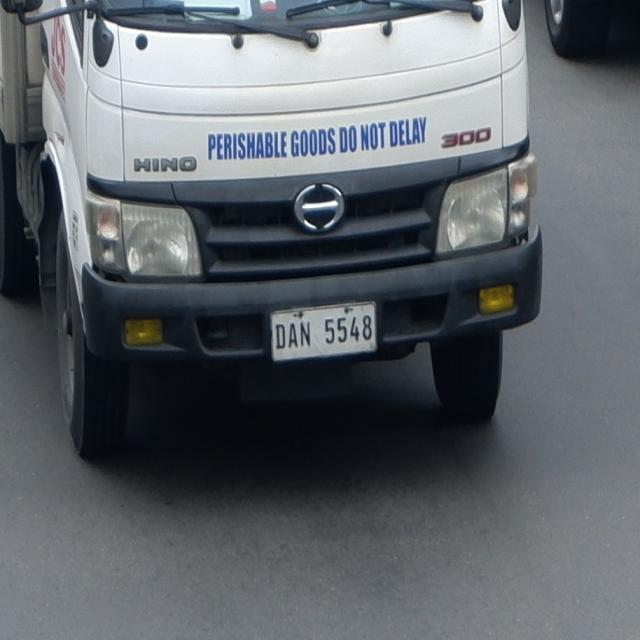LicensePlate: (268, 304, 383, 365)
